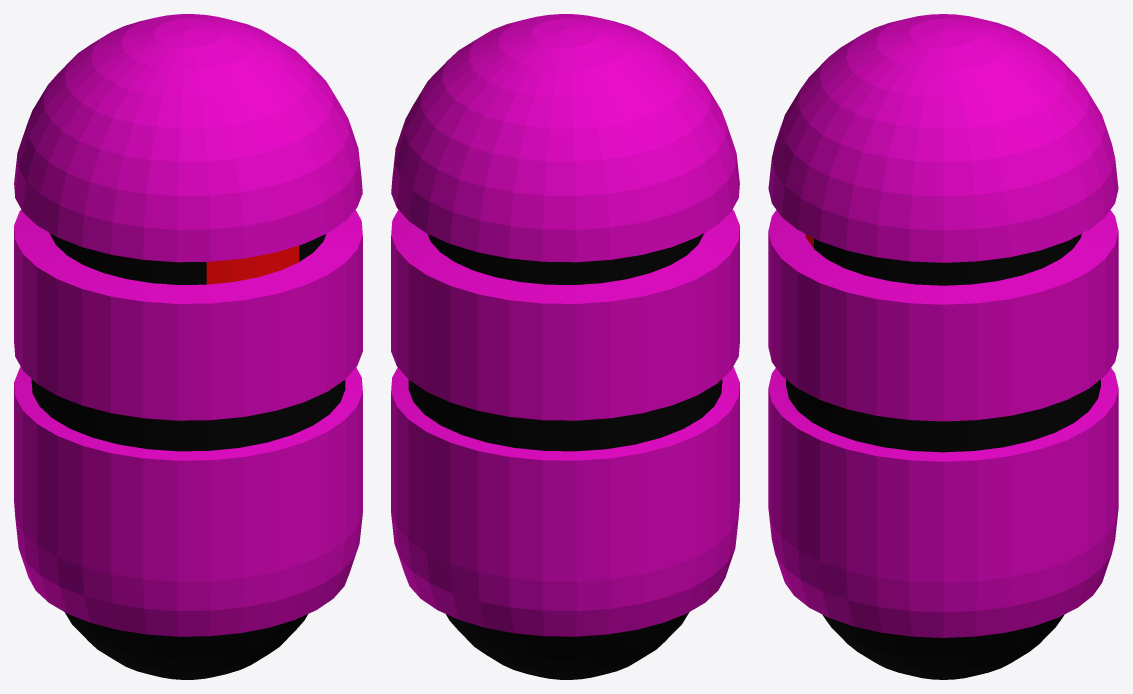
The model's file is MeleeT2.glb.
3 renders of one model, left to right at view 1: azimuth 30°, elevation 25°; view 2: azimuth 150°, elevation 25°; view 3: azimuth 270°, elevation 25°, orthographic.
Visible parts, largest first — view 1: Body; view 2: Body; view 3: Body.
Boxes of the visible parts, x1,y1,x2,y2 form: Body: [14, 14, 362, 679]; Body: [391, 14, 739, 679]; Body: [768, 14, 1118, 679].
Bounding box in the file's own units: 1 × 2.01 × 1.
